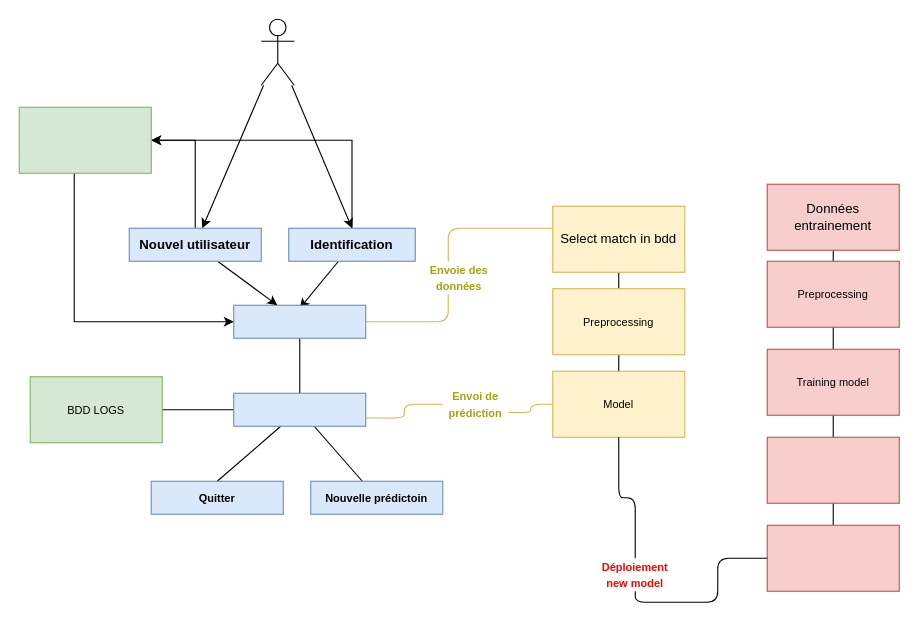
The diagram is 919 pixels wide and 623 high, and some of its shapes have lost their labels. The centre of each missing label's shape, as x and y in pixels:
BDD USERS: the point at 84,139
Prédiction vainqueur: the point at 299,409
Saisie J1, j2, date: the point at 299,321
Test unitaire avant déploiement: the point at 832,557
Utilisateur: the point at 277,51
Validation: the point at 832,469
